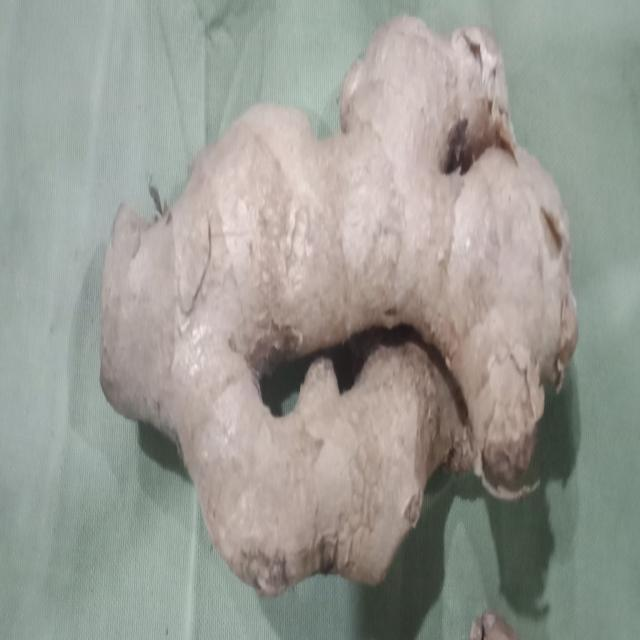ginger: (110, 46, 568, 545)
